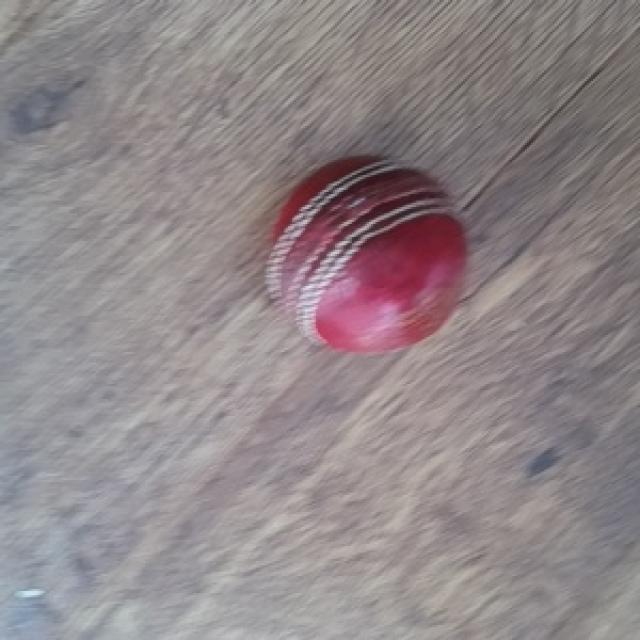ball: (260, 151, 474, 358)
